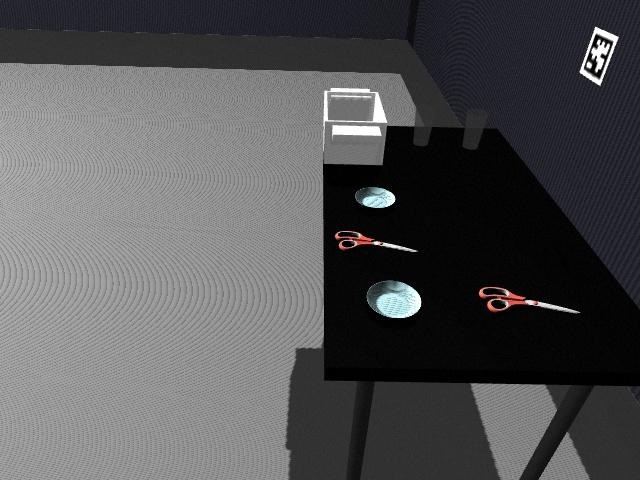cup: (461, 109, 489, 151), (412, 118, 432, 147)
plate: (366, 279, 425, 320), (355, 187, 396, 209), (377, 280, 410, 296)
scissors: (478, 284, 580, 316), (335, 229, 418, 254)
